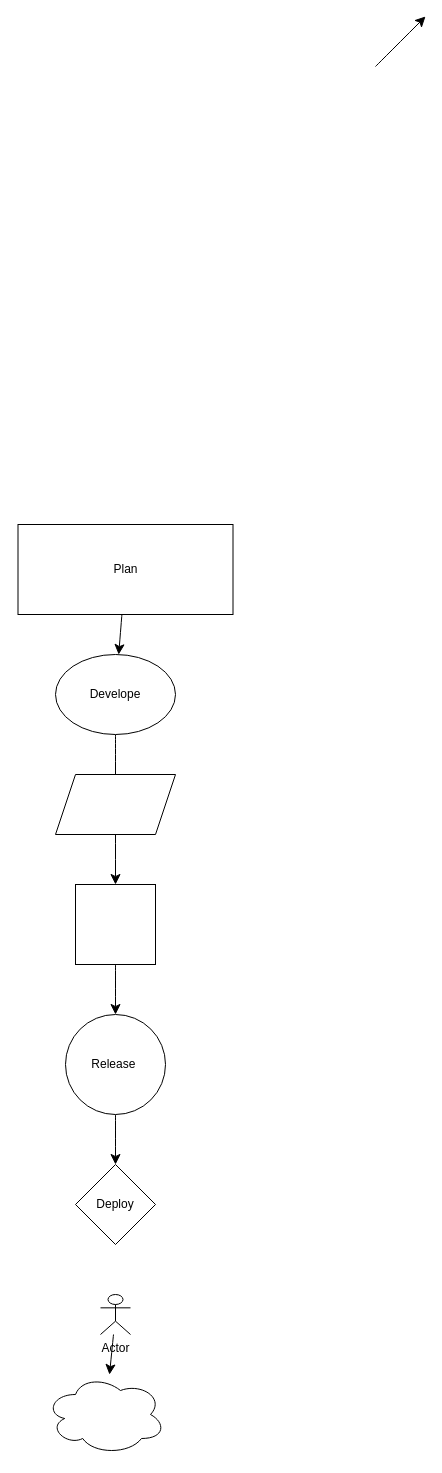
The diagram is 442 pixels wide and 1473 high, and some of its shapes have lost their labels. Here are the shapes that lost their labels. From the top down, the box of each, then its label:
(54, 774, 176, 834): Built
(74, 884, 156, 964): Test
(44, 1374, 166, 1454): Monitor
